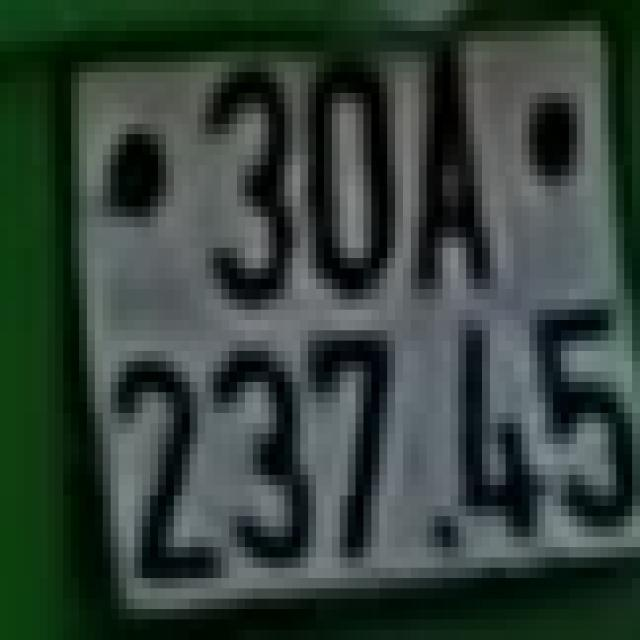0: (308, 62, 395, 300)
2: (111, 351, 221, 578)
3: (213, 340, 316, 568), (205, 62, 292, 300)
4: (450, 320, 538, 547)
5: (537, 299, 640, 526)
7: (308, 330, 395, 558)
A: (411, 62, 498, 300)
